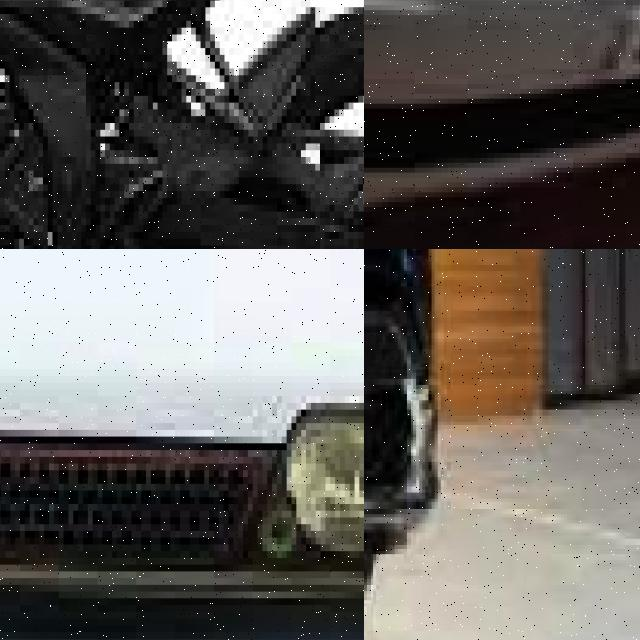bike: (0, 0, 364, 249)
car: (0, 249, 364, 640), (364, 0, 640, 231), (364, 249, 462, 640)
